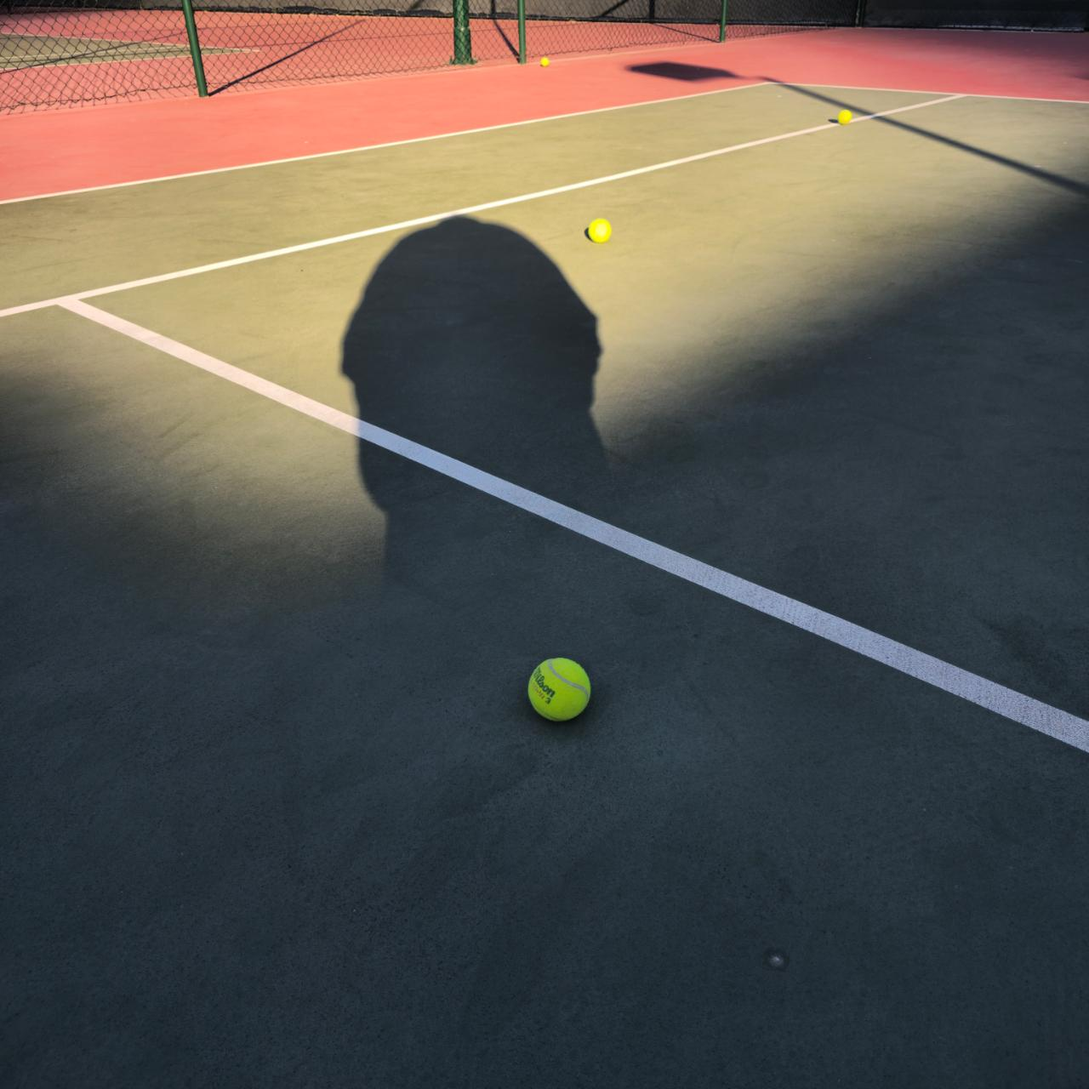tennis-ball: (525, 653, 592, 722), (584, 215, 613, 244), (836, 106, 852, 124), (541, 57, 549, 67)
